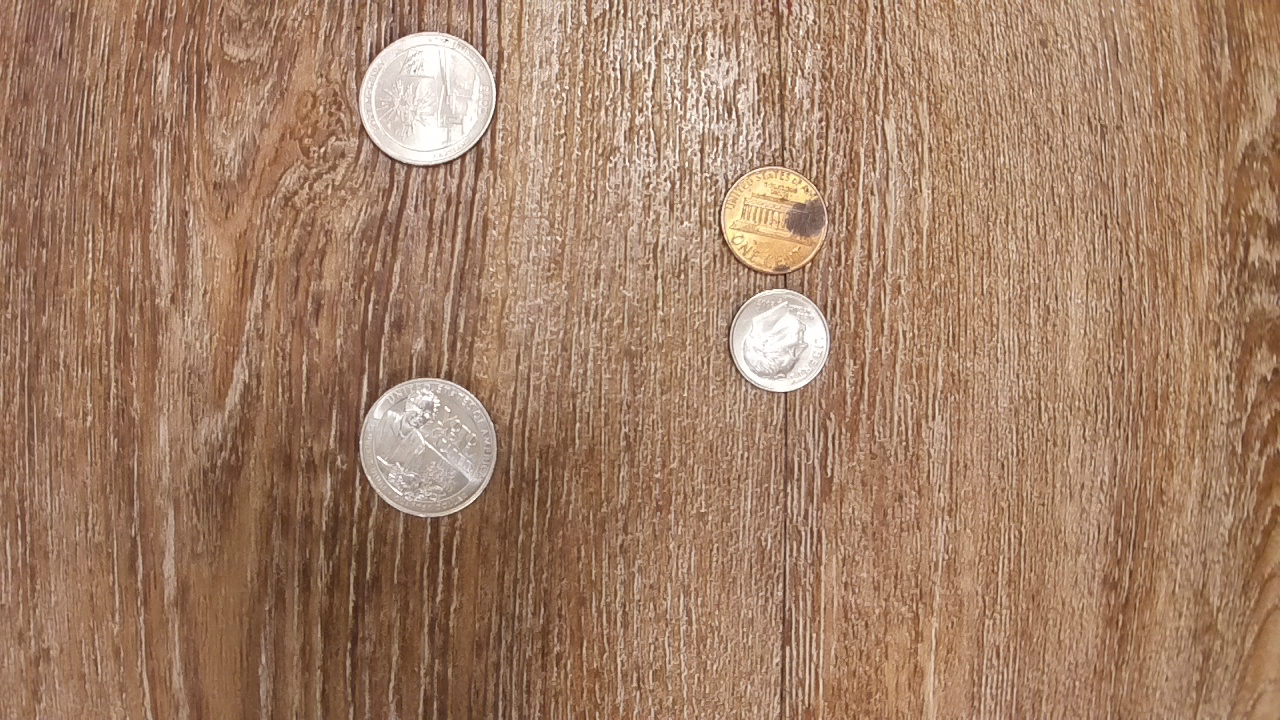dime: (724, 287, 834, 397)
penny: (716, 160, 832, 276)
quarter: (357, 24, 499, 174), (356, 374, 500, 520)
